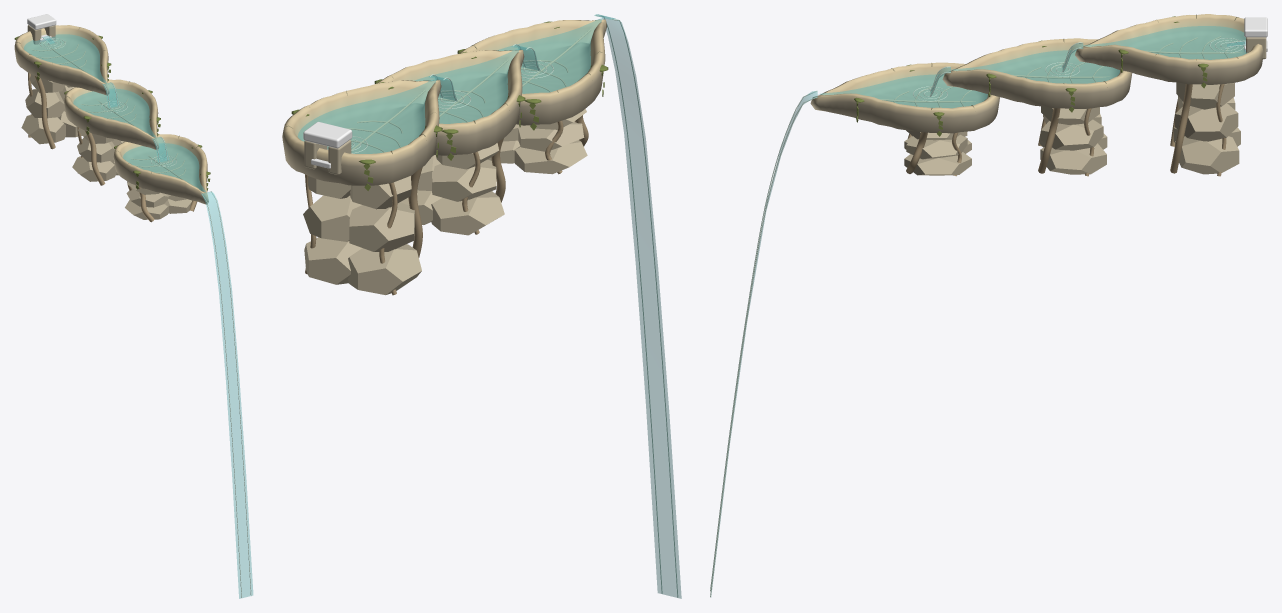
Rendered from three-tier-leaf-water-channel.glb.
The picture shows the model from 3 angles, left to right: view 1: azimuth 30°, elevation 25°; view 2: azimuth 150°, elevation 25°; view 3: azimuth 270°, elevation 25°; orthographic projection. The views are drawn at different scales.
Visible parts, largest first — view 1: leaf-channel-limestone (×4), leaf-channel-water-preview (×4), leaf-channel-support-rock (×3), leaf-channel-water-highlight, leaf-channel-pale-roots (×2); view 2: leaf-channel-limestone (×4), leaf-channel-water-preview (×4), leaf-channel-support-rock (×4), leaf-channel-pale-roots (×2), leaf-channel-water-highlight; view 3: leaf-channel-limestone (×3), leaf-channel-support-rock (×3), leaf-channel-water-preview (×4), leaf-channel-pale-roots (×2), leaf-channel-water-highlight.
Boxes of the visible parts, x1,y1,x2,y2 form: leaf-channel-limestone (×4): (14, 14, 208, 204); leaf-channel-water-preview (×4): (24, 34, 252, 598); leaf-channel-support-rock (×3): (21, 74, 191, 219); leaf-channel-water-highlight: (42, 35, 251, 597); leaf-channel-pale-roots (×2): (28, 73, 105, 185); leaf-channel-limestone (×4): (282, 19, 607, 185); leaf-channel-water-preview (×4): (298, 14, 681, 598); leaf-channel-support-rock (×4): (303, 109, 587, 295); leaf-channel-pale-roots (×2): (305, 138, 505, 295); leaf-channel-water-highlight: (351, 15, 678, 597); leaf-channel-limestone (×3): (810, 14, 1263, 133); leaf-channel-support-rock (×3): (904, 82, 1240, 175); leaf-channel-water-preview (×4): (715, 26, 1246, 559); leaf-channel-pale-roots (×2): (1038, 84, 1226, 176); leaf-channel-water-highlight: (710, 40, 1245, 597).
Size of the model in its own units: 3.21 by 16.51 by 14.63.
